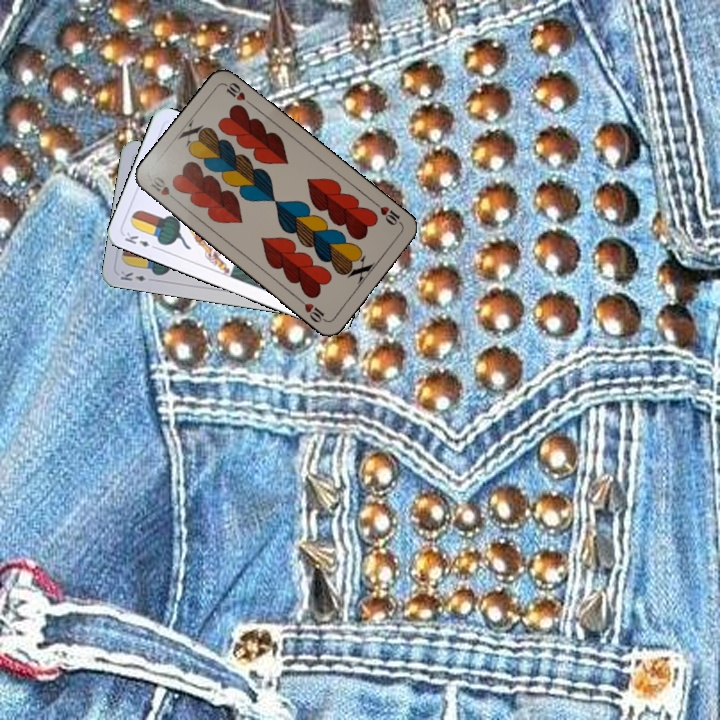EK: (121, 228, 160, 252), (116, 267, 148, 284)
H10: (147, 172, 181, 205), (370, 198, 404, 228)
